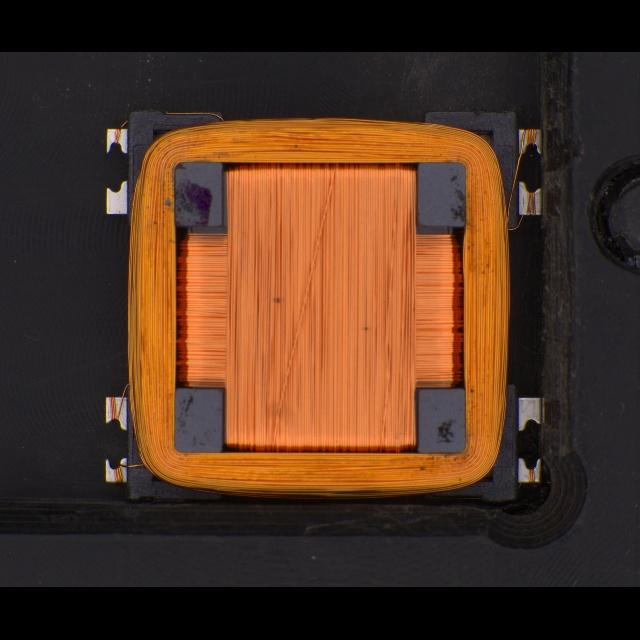Winding_Z: (123, 112, 513, 499)
